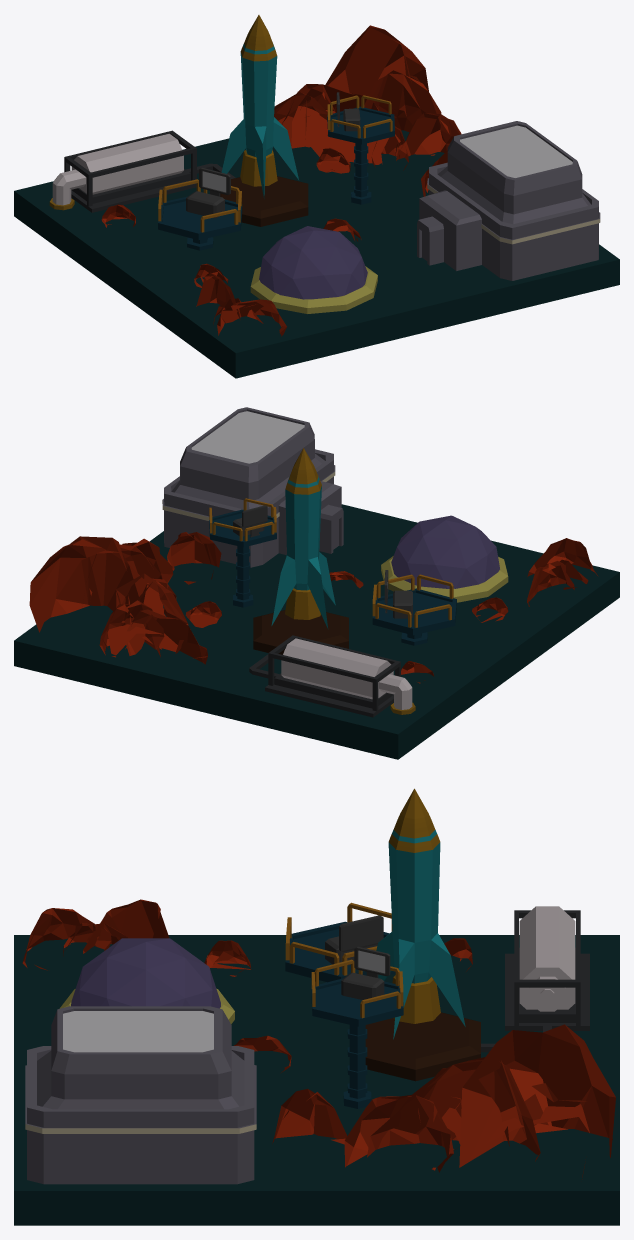
The model's file is spacePlatform.glb.
3 views of the same model, one above another, from view 1: azimuth 30°, elevation 25°; view 2: azimuth 150°, elevation 25°; view 3: azimuth 270°, elevation 25° (orthographic). The views are drawn at different scales.
Visible parts, largest first — view 1: Ground, Base, Cylinder, Ball, Cylinder.001, Cylinder.004, Cube.013, Container, Cylinder.005, Cube.015, Cylinder.003, Cube.016 (+6 smaller); view 2: Ground, Base, Cube.013, Cylinder, Ball, Cylinder.001, Container, Cylinder.004, Cylinder.005, Cylinder.003, Cube.015, Cube.003 (+8 smaller); view 3: Ground, Base, Cube.013, Cylinder, Ball, Cylinder.005, Cylinder.003, Cylinder.001, Cube.016, Cylinder.004, Container, Cube.009 (+7 smaller).
Boxes of the visible parts, <box> form: Ground: <box>14,130,619,378</box>; Base: <box>417,121,600,280</box>; Cylinder: <box>221,15,298,198</box>; Ball: <box>259,226,367,299</box>; Cylinder.001: <box>49,133,183,210</box>; Cylinder.004: <box>158,167,242,250</box>; Cube.013: <box>325,25,428,95</box>; Container: <box>64,130,235,212</box>; Cylinder.005: <box>327,92,394,204</box>; Cube.015: <box>287,84,400,164</box>; Cylinder.003: <box>220,176,308,226</box>; Cube.016: <box>364,70,449,151</box>; Ground: <box>14,504,619,759</box>; Base: <box>162,407,343,567</box>; Cube.013: <box>29,536,147,649</box>; Cylinder: <box>271,448,335,629</box>; Ball: <box>391,515,499,588</box>; Cylinder.001: <box>281,638,415,714</box>; Container: <box>249,635,400,717</box>; Cylinder.004: <box>372,570,456,645</box>; Cylinder.005: <box>209,498,276,607</box>; Cylinder.003: <box>253,610,348,654</box>; Cube.015: <box>107,573,188,655</box>; Cube.003: <box>126,609,207,664</box>; Ground: <box>14,935,619,1225</box>; Base: <box>25,1006,256,1184</box>; Cube.013: <box>459,1024,615,1179</box>; Cylinder: <box>376,788,465,1039</box>; Ball: <box>71,938,220,1008</box>; Cylinder.005: <box>311,946,403,1108</box>; Cylinder.003: <box>365,1012,480,1081</box>; Cylinder.001: <box>519,906,575,1011</box>; Cube.016: <box>367,1057,540,1161</box>; Cylinder.004: <box>285,902,395,982</box>; Container: <box>481,910,589,1052</box>; Cube.009: <box>344,1095,453,1172</box>.
Size of the model in its own units: 30.7 by 16.55 by 30.7.
